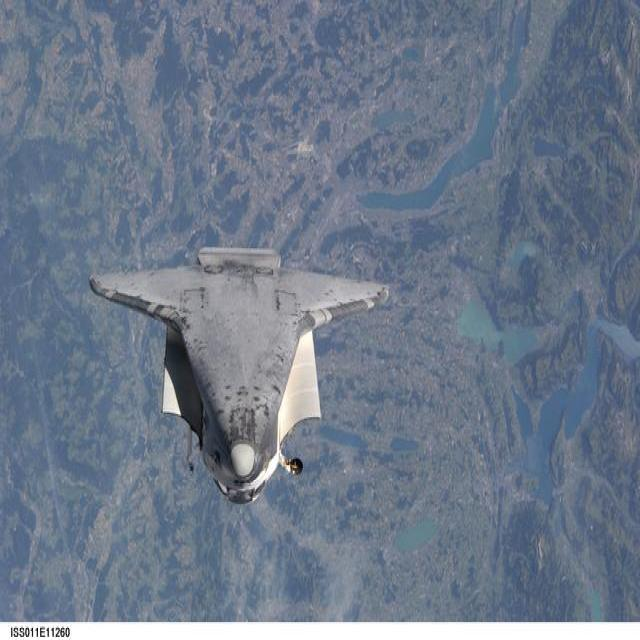medium_debris: (90, 247, 389, 503)
